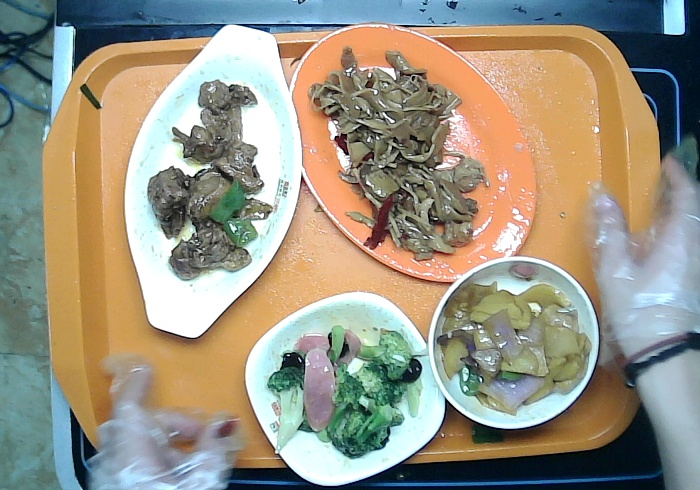NLDX-Bai_Se_Xiao_Fang_Die: (241, 287, 451, 490)
NLDX-Fan_Wan: (423, 250, 606, 433)
NLDX-Ju_Se_Pan: (286, 17, 543, 289)
NLDX-Yu_Pan: (120, 22, 311, 343)
